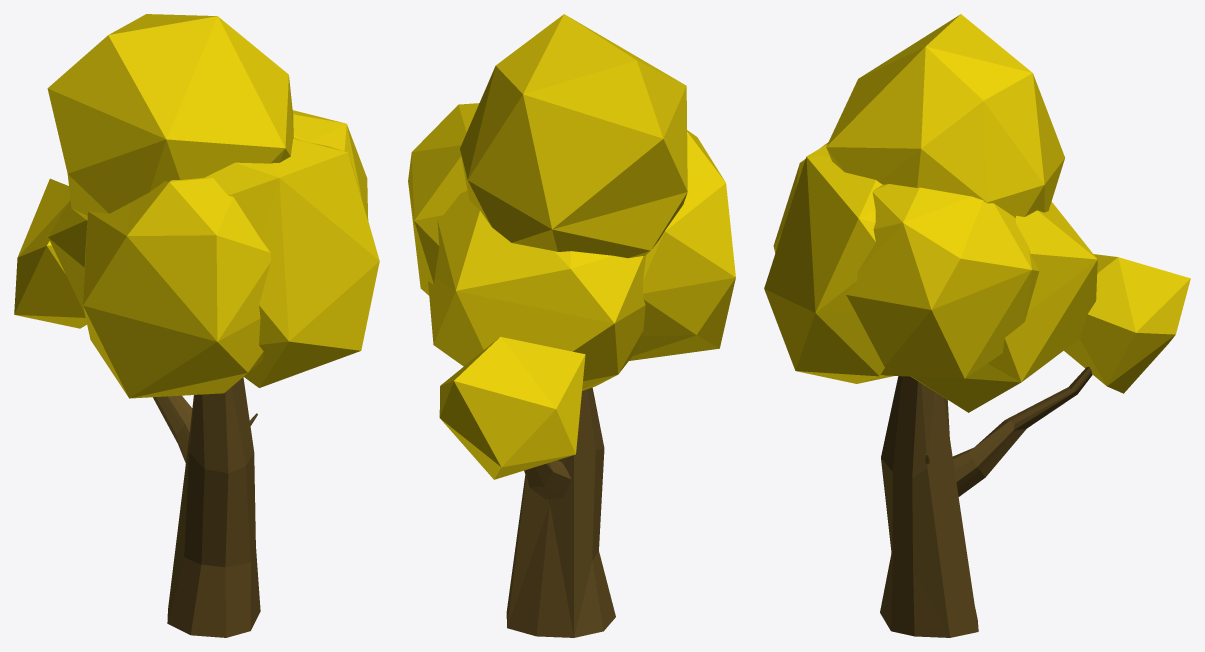
Rendered from Tree#6.fbx.
The picture shows the model from 3 angles, left to right: view 1: azimuth 30°, elevation 25°; view 2: azimuth 150°, elevation 25°; view 3: azimuth 270°, elevation 25°; orthographic projection. The views are drawn at different scales.
Visible parts, largest first — view 1: Tree#6; view 2: Tree#6; view 3: Tree#6.
Boxes of the visible parts, x1=… form: Tree#6: x1=14, y1=14, x2=379, y2=637; Tree#6: x1=408, y1=14, x2=735, y2=637; Tree#6: x1=764, y1=14, x2=1190, y2=637.
Bounding box in the file's own units: 1080 × 2043 × 1368.
